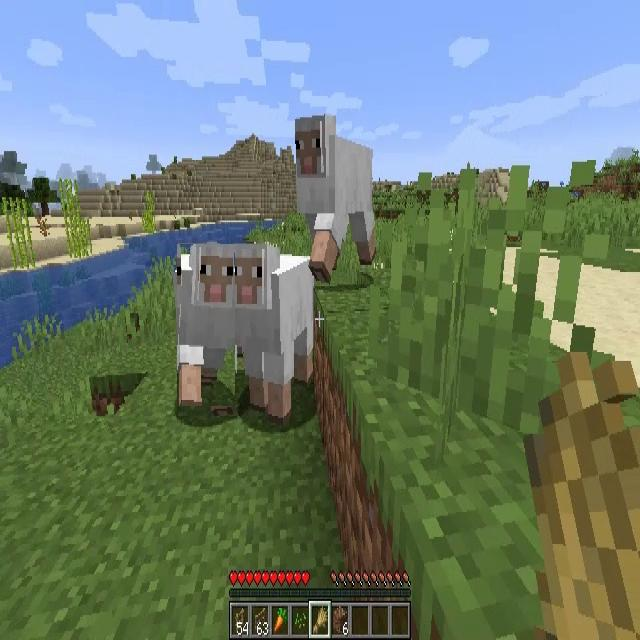sheep: (234, 244, 320, 409), (296, 116, 379, 271), (178, 244, 235, 406)
